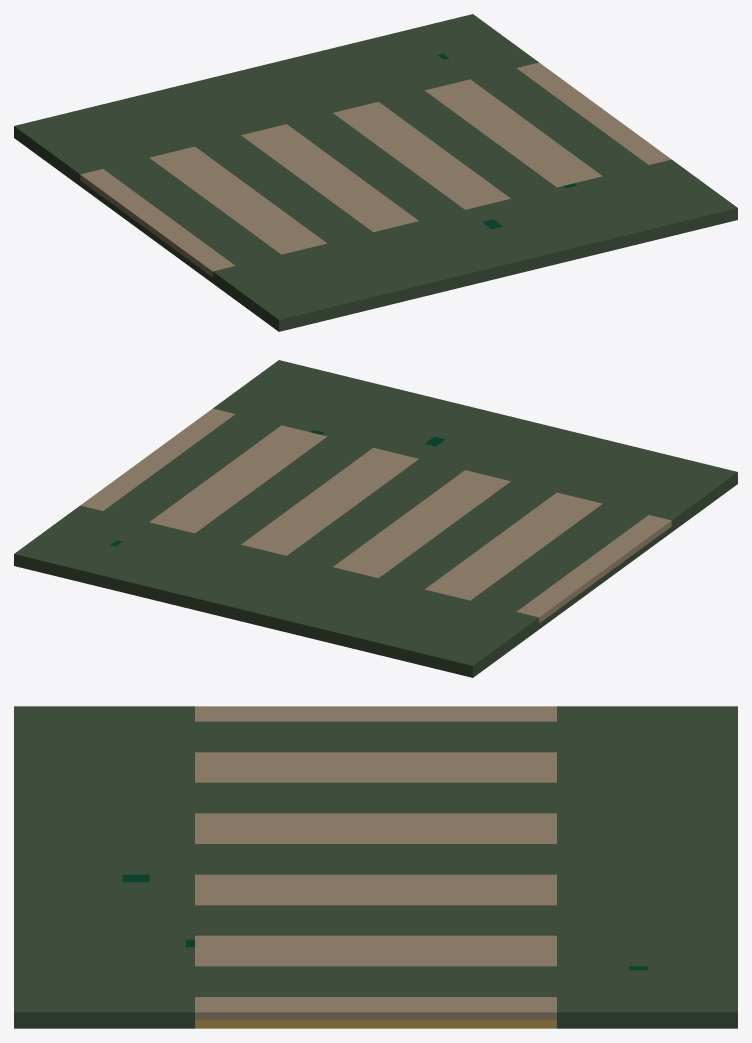
Rendered from cars_crossing_a.glb.
The picture shows the model from 3 angles, top to bottom: view 1: azimuth 30°, elevation 25°; view 2: azimuth 150°, elevation 25°; view 3: azimuth 270°, elevation 25°; orthographic projection. The views are drawn at different scales.
Parts seen in each view (by area): view 1: cars_crossing_a; view 2: cars_crossing_a; view 3: cars_crossing_a.
Boxes of the visible parts, left/top/right/bottom form: cars_crossing_a: left=14, top=14, right=737, bottom=331; cars_crossing_a: left=14, top=360, right=737, bottom=677; cars_crossing_a: left=14, top=706, right=737, bottom=1028.
Size of the model in its own units: 4 by 0.1 by 4.
Materials: 1 (1 with a texture image).
